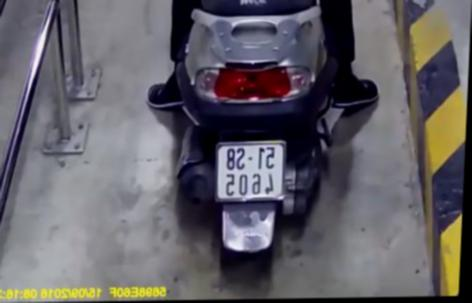License_Plate: (209, 138, 291, 208)
